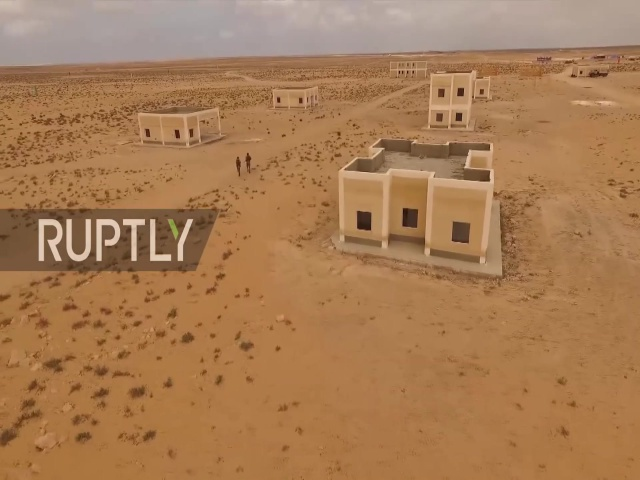person: (234, 155, 242, 180), (244, 150, 252, 174)
